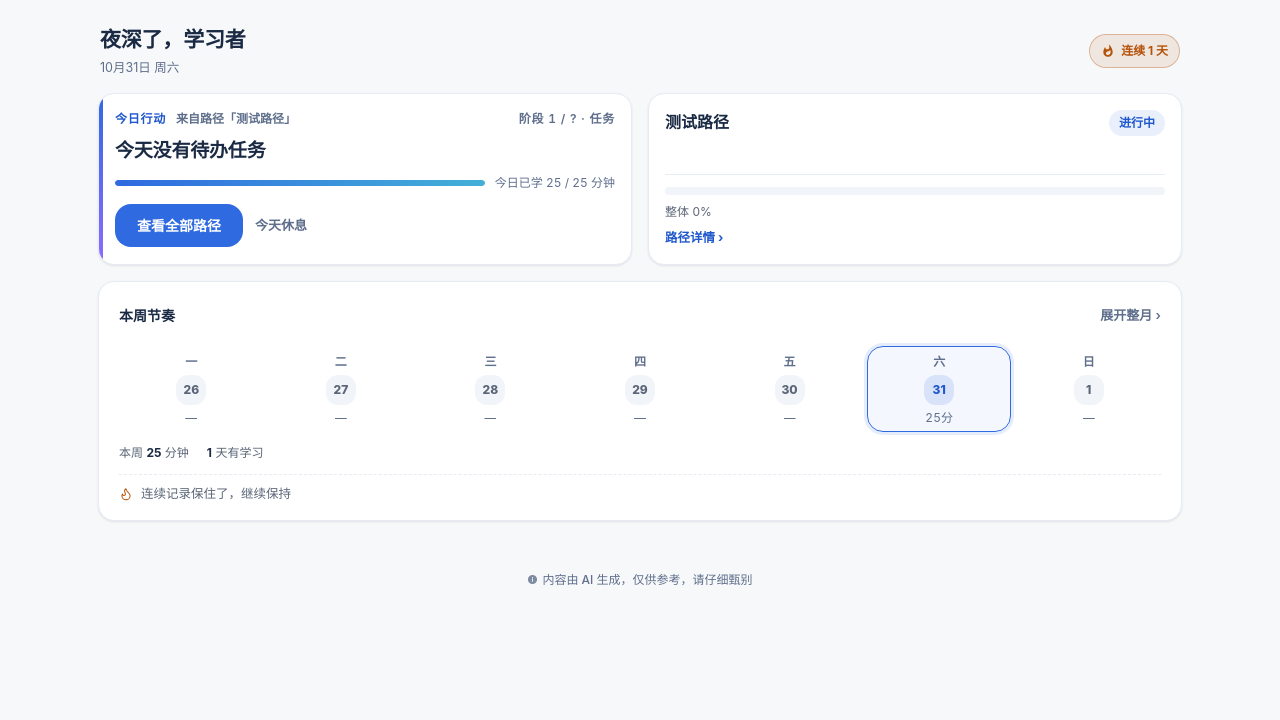
V2Dashboard 日历口径（本地日期） › 选中当天：学习次数按本地日期归组（含当天凌晨会话），明细在复盘抽屉
The width and height of the screenshot is (1280, 720).
Step 1. Click the button with class "day--today" → (939, 389), box 867,346 -> 1011,432
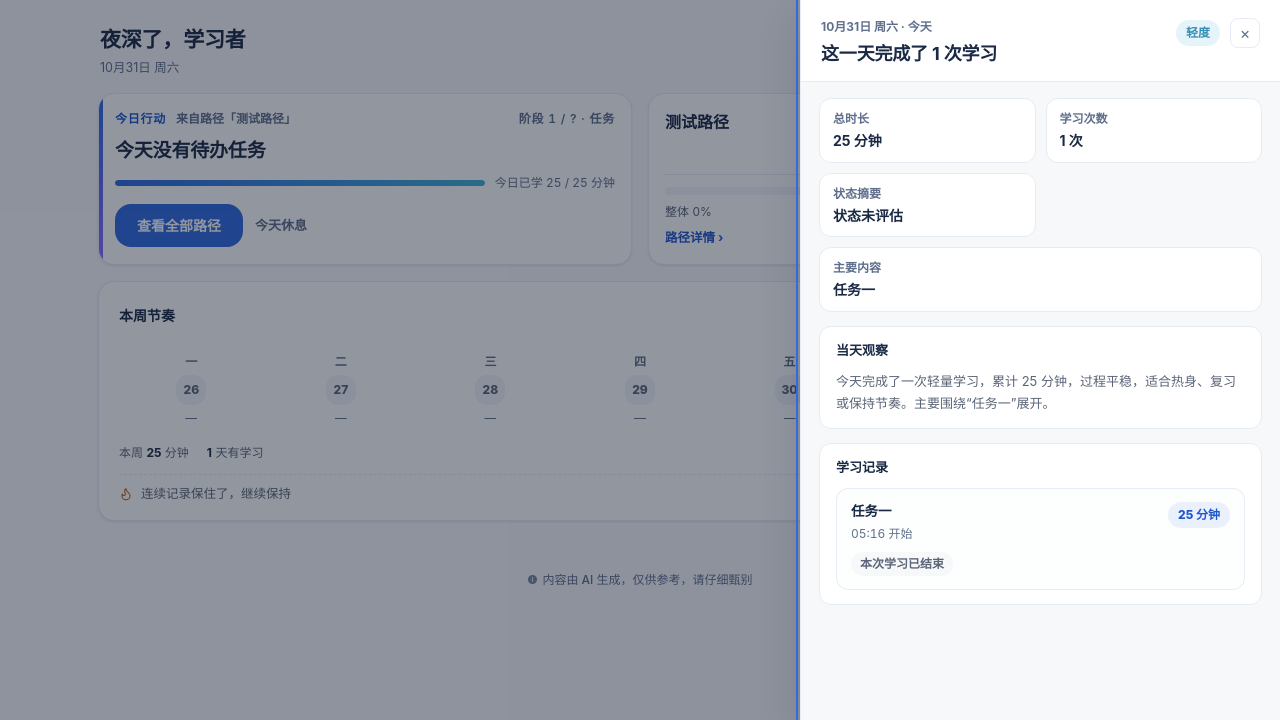
Now the dialog with class "sheet" is shown, box 800,0 -> 1279,719
Now the dialog with class "sheet" shows "25 分钟", box 833,132 -> 882,149
Now the dialog with class "sheet" shows "1 次", box 1060,132 -> 1083,149
